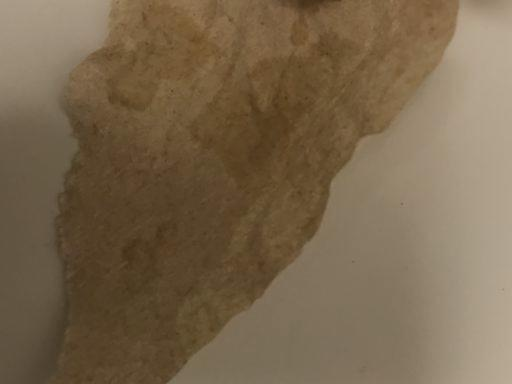trash: (52, 4, 461, 381)
